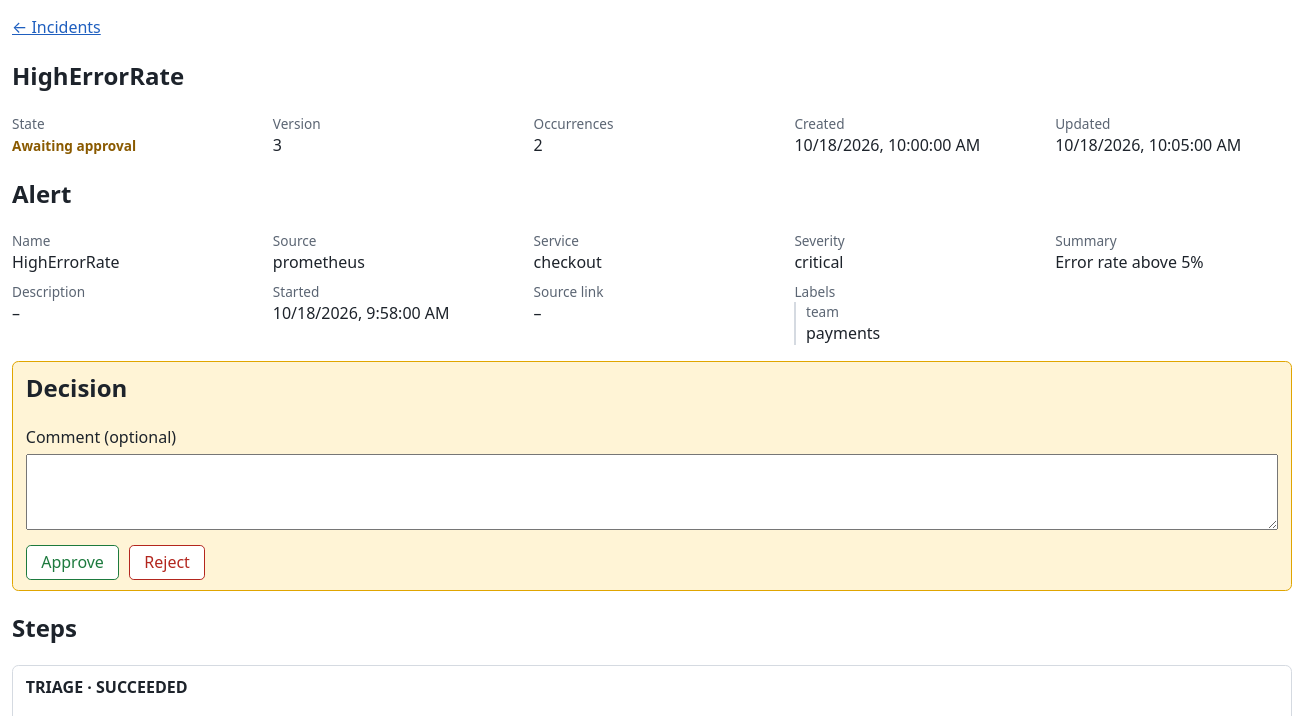
IncidentDetailPage › reloads and explains when the incident changed since it was shown (412)
Click the button "Reject".
click(167, 563)  # box 129,545 -> 205,580
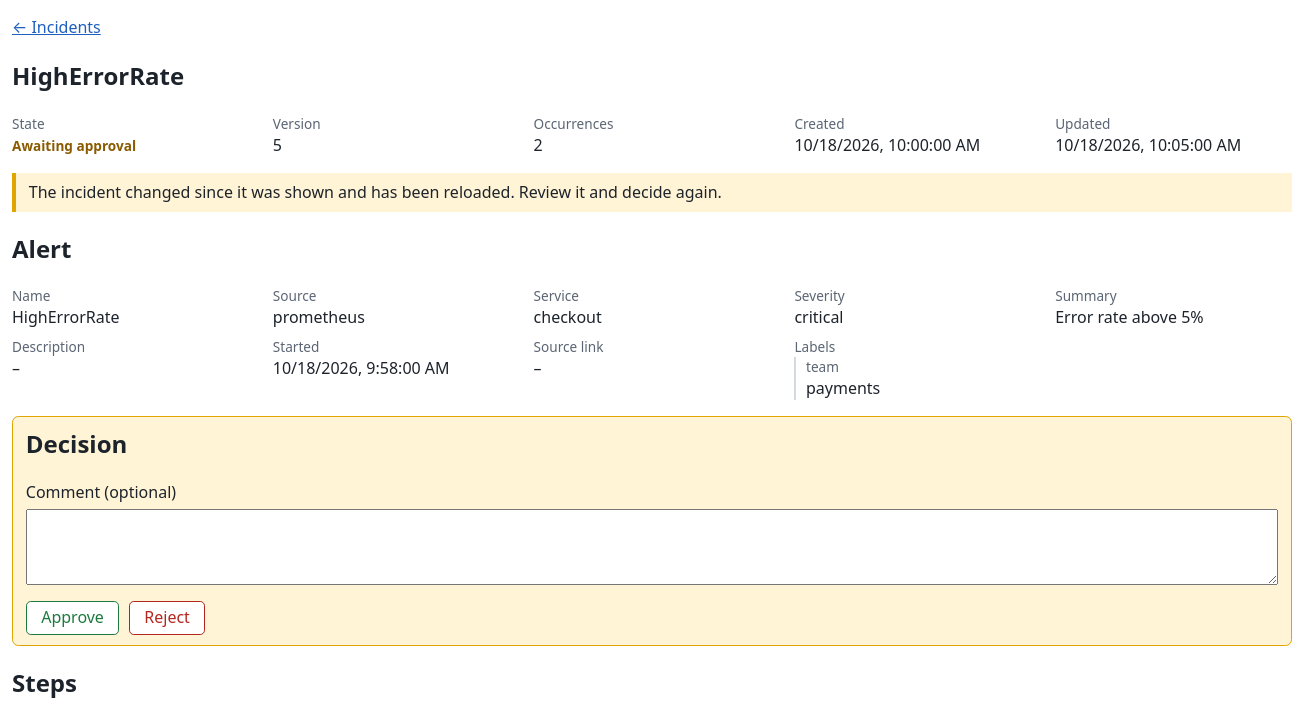
Check: the message shows "changed since it was shown", box 29,181 -> 722,203
